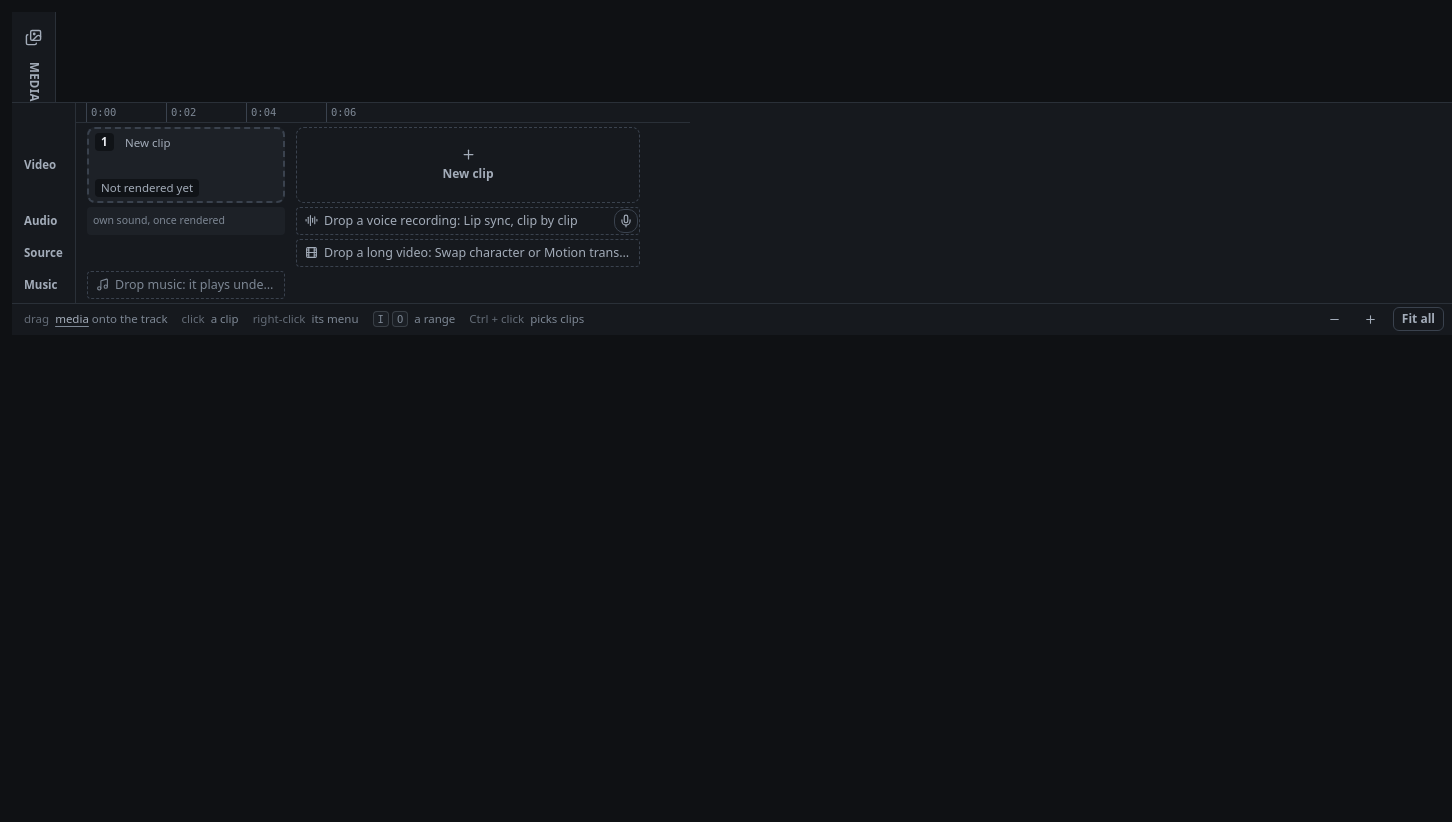
Test: the timeline's Media strip, found without being told (card #67) › opens from the track's footer, its "media" a link
The image size is (1452, 822).
What coordinates should you click on to do the following:
click the button with aria-label "Show the media"
I would click on:
 (72, 319)
Its box is top-left (55, 311), bottom-right (89, 327).
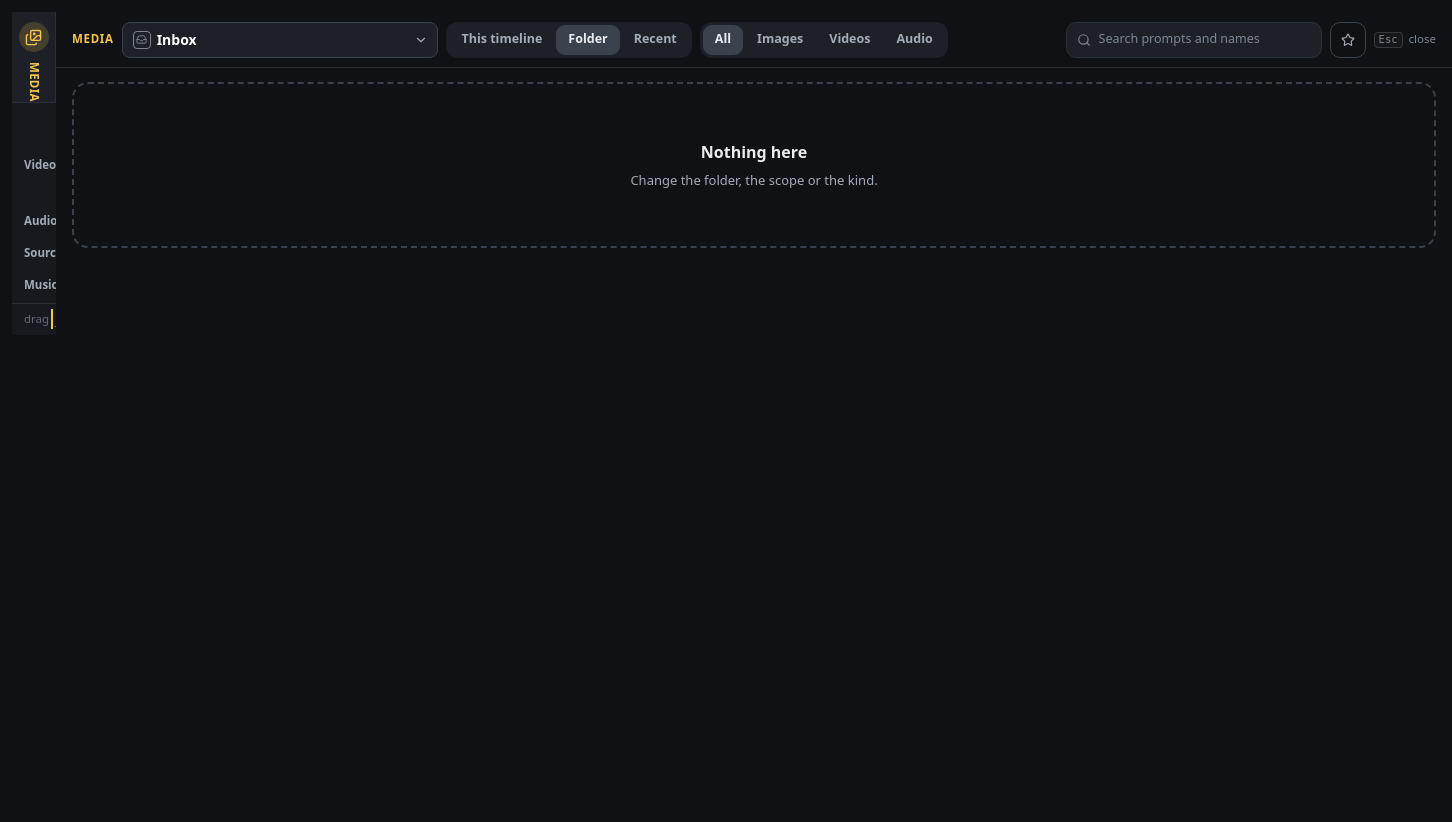
Expected: the element named "Your library" is shown
